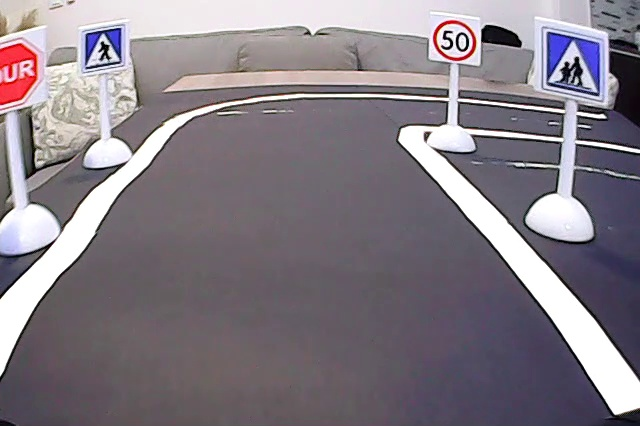pedestrian crossing: (81, 27, 130, 70)
school crossing: (539, 23, 604, 96)
speed limit 50: (431, 15, 481, 62)
stop sign: (1, 30, 45, 114)
